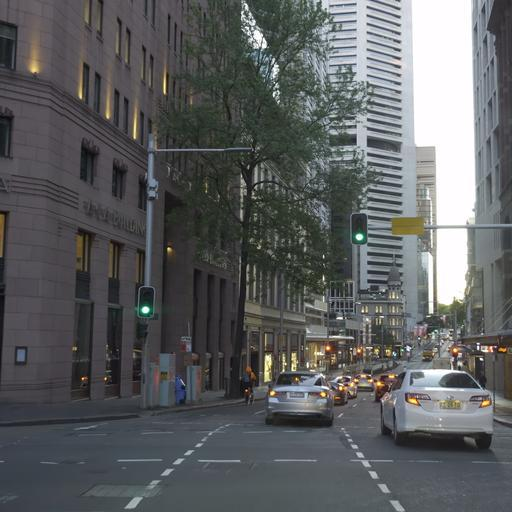Street light: (136, 133, 253, 408), (349, 212, 367, 245)
